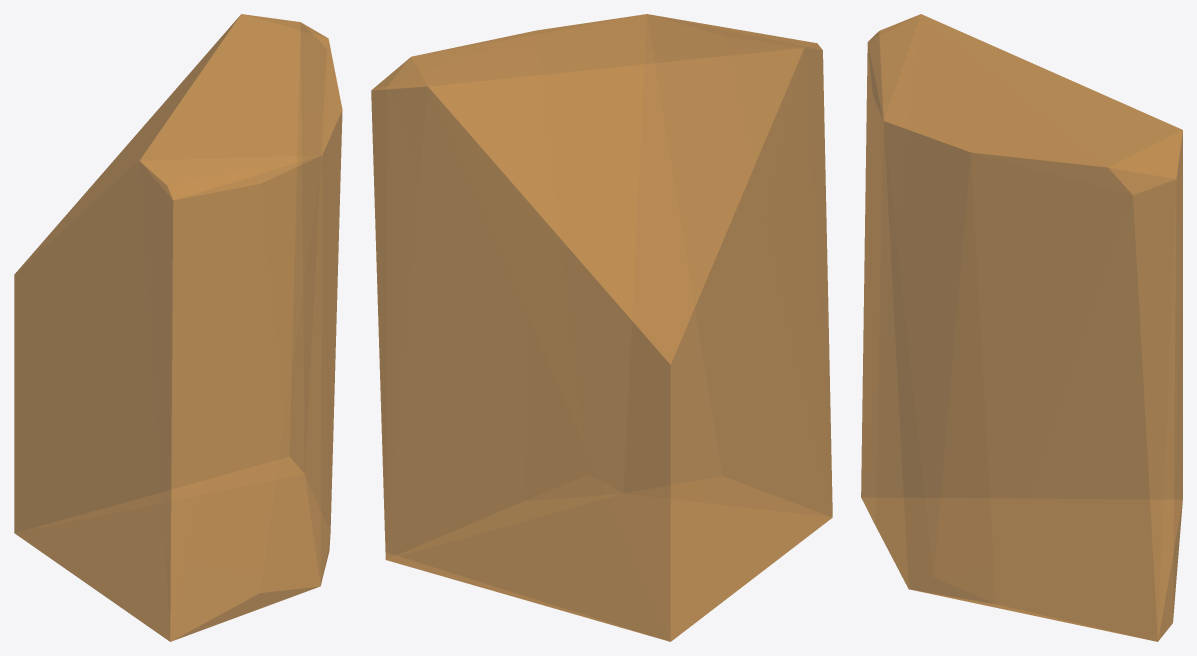
3 views of the same model, side by side, from view 1: azimuth 30°, elevation 25°; view 2: azimuth 150°, elevation 25°; view 3: azimuth 270°, elevation 25° (orthographic). The views are drawn at different scales.
Visible parts, largest first — view 1: Shape_IndexedFaceSet.011_Shape_IndexedFaceSet.17989; view 2: Shape_IndexedFaceSet.011_Shape_IndexedFaceSet.17989; view 3: Shape_IndexedFaceSet.011_Shape_IndexedFaceSet.17989.
Boxes of the visible parts, x1=… form: Shape_IndexedFaceSet.011_Shape_IndexedFaceSet.17989: x1=14, y1=14, x2=342, y2=641; Shape_IndexedFaceSet.011_Shape_IndexedFaceSet.17989: x1=371, y1=14, x2=832, y2=641; Shape_IndexedFaceSet.011_Shape_IndexedFaceSet.17989: x1=861, y1=14, x2=1182, y2=641.
Bounding box in the file's own units: 0.2122 × 0.3259 × 0.1957.
